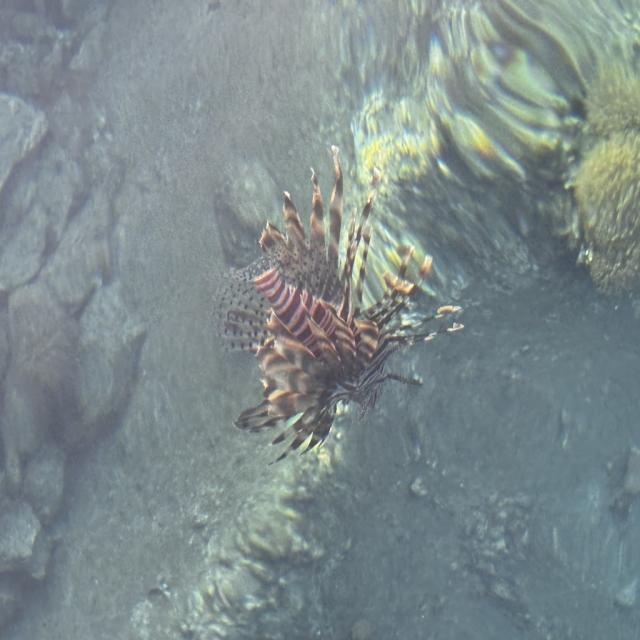Aslan Baligi: (213, 143, 465, 467)
